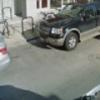bicycles: (0, 18, 15, 38)
